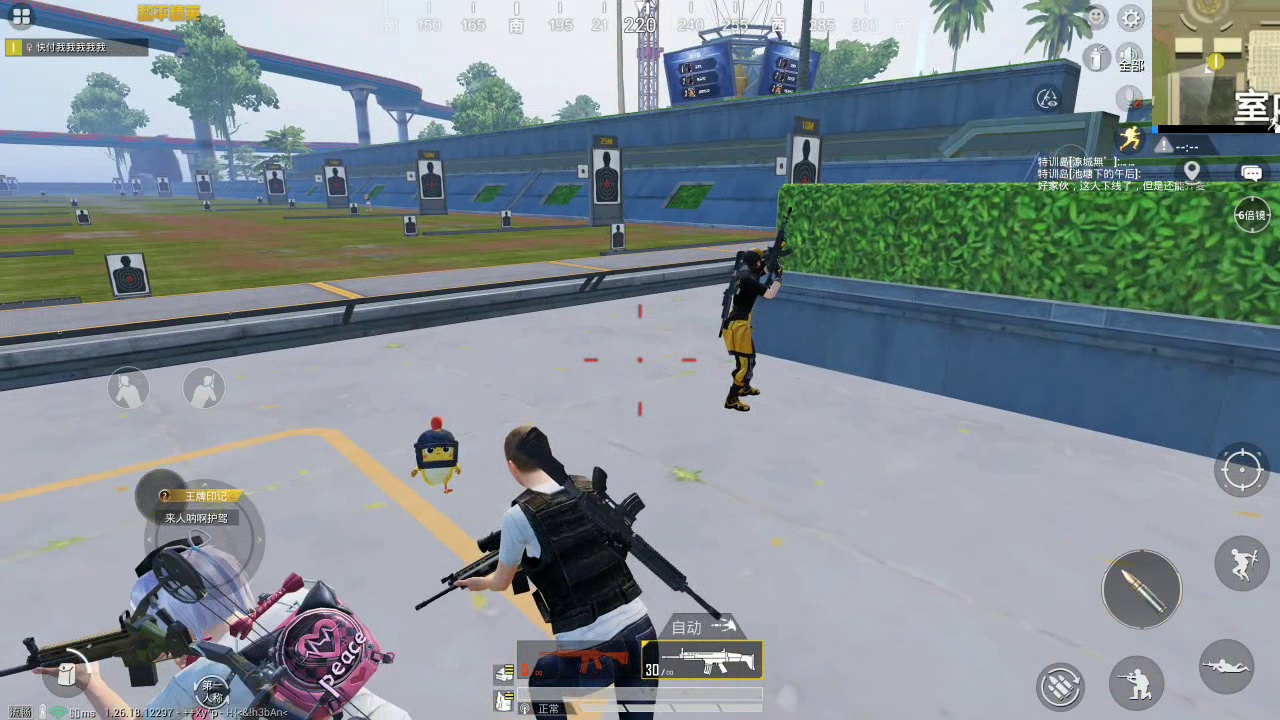enemy: (121, 546, 415, 720), (716, 247, 765, 416)
